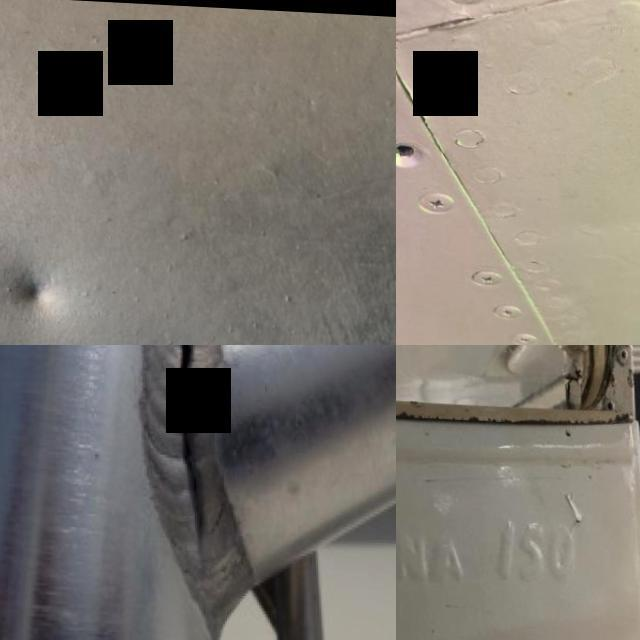Crack: (396, 370, 640, 427), (169, 345, 212, 570), (546, 454, 608, 545)
Dent: (0, 225, 94, 345)
Missing_Fastener: (396, 110, 452, 188)
